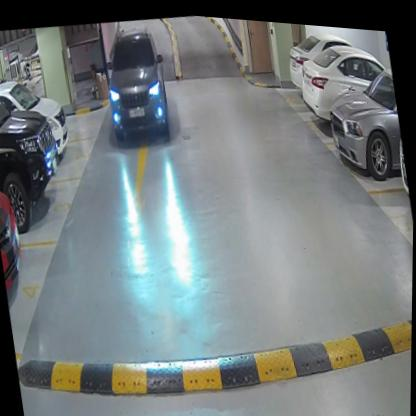np: (129, 104, 146, 117)
